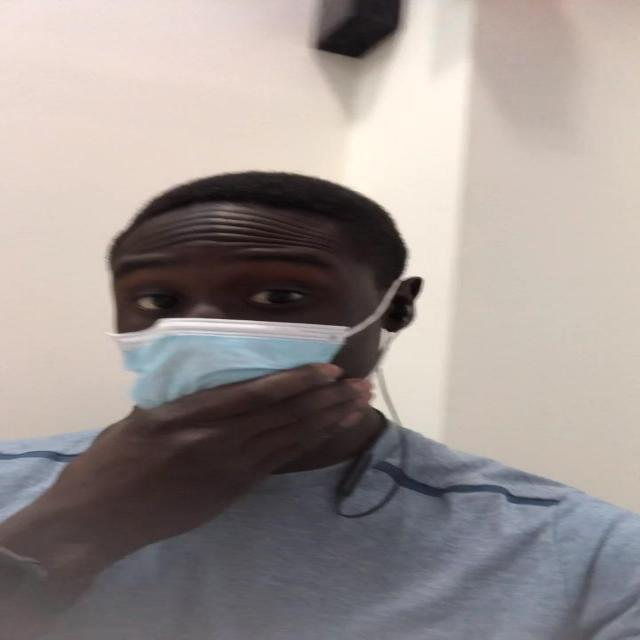face: (110, 223, 398, 427)
